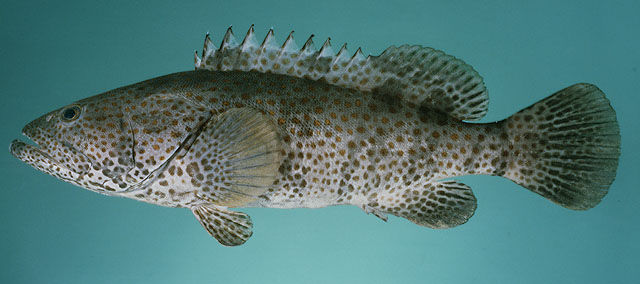fish: (9, 23, 622, 248)
